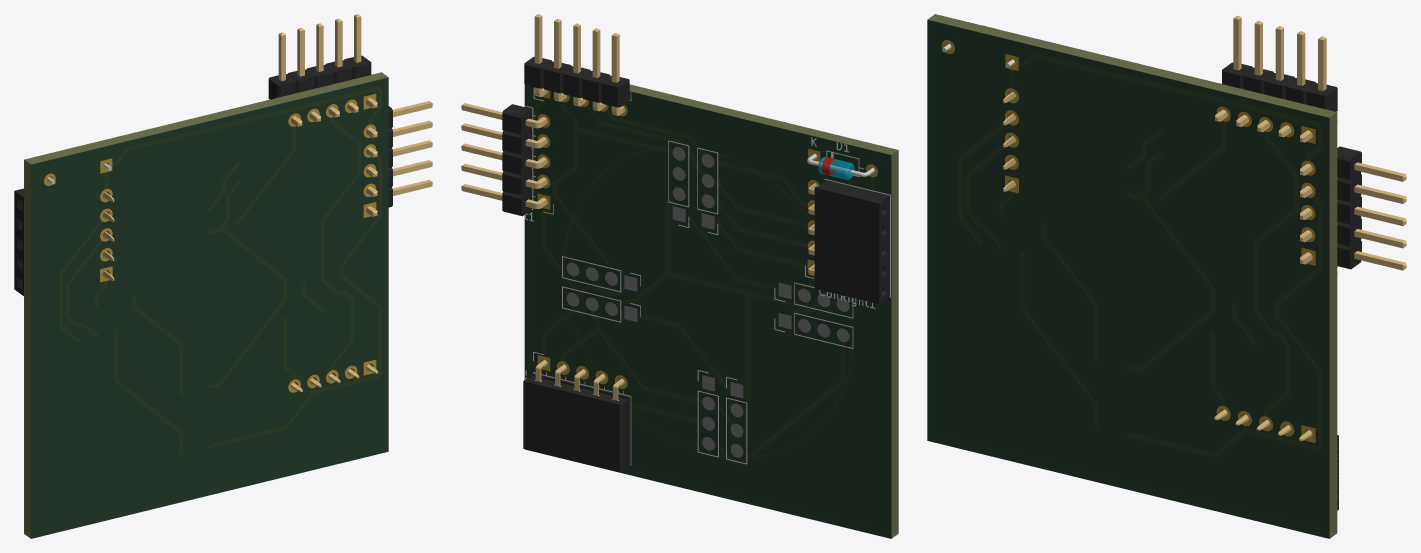
File: design.obj
3 views of the same model, side by side, from view 1: azimuth 30°, elevation 25°; view 2: azimuth 150°, elevation 25°; view 3: azimuth 330°, elevation 25° (orthographic). The views are drawn at different scales.
Visible parts, largest first — view 1: SHAPE_347_IndexedFaceSet, SHAPE_341_IndexedFaceSet, SHAPE_346_IndexedFaceSet, SHAPE_342_IndexedFaceSet, SHAPE_21_IndexedFaceSet, SHAPE_160_IndexedFaceSet.001_SHAPE_160_IndexedFaceSet; view 2: SHAPE_345_IndexedFaceSet, SHAPE_341_IndexedFaceSet, SHAPE_343_IndexedFaceSet, SHAPE_156_IndexedFaceSet.001_SHAPE_156_IndexedFaceSet, SHAPE_156_IndexedFaceSet, SHAPE_342_IndexedFaceSet, SHAPE_344_IndexedFaceSet, SHAPE_348_IndexedFaceSet, SHAPE_20_IndexedFaceSet.001_SHAPE_20_IndexedFaceSet, SHAPE_160_IndexedFaceSet.001_SHAPE_160_IndexedFaceSet, SHAPE_21_IndexedFaceSet, SHAPE_157_IndexedFaceSet (+1 smaller); view 3: SHAPE_347_IndexedFaceSet, SHAPE_341_IndexedFaceSet, SHAPE_346_IndexedFaceSet, SHAPE_342_IndexedFaceSet, SHAPE_21_IndexedFaceSet.001_SHAPE_21_IndexedFaceSet, SHAPE_21_IndexedFaceSet.
Boxes of the visible parts, <box> form: SHAPE_347_IndexedFaceSet: <box>31,77,388,538</box>; SHAPE_341_IndexedFaceSet: <box>31,77,388,537</box>; SHAPE_346_IndexedFaceSet: <box>44,87,381,454</box>; SHAPE_342_IndexedFaceSet: <box>24,72,387,538</box>; SHAPE_21_IndexedFaceSet: <box>268,55,371,85</box>; SHAPE_160_IndexedFaceSet.001_SHAPE_160_IndexedFaceSet: <box>14,191,23,295</box>; SHAPE_345_IndexedFaceSet: <box>524,84,891,538</box>; SHAPE_341_IndexedFaceSet: <box>525,85,891,538</box>; SHAPE_343_IndexedFaceSet: <box>534,90,877,464</box>; SHAPE_156_IndexedFaceSet.001_SHAPE_156_IndexedFaceSet: <box>814,188,879,304</box>; SHAPE_156_IndexedFaceSet: <box>523,381,619,472</box>; SHAPE_342_IndexedFaceSet: <box>540,84,898,538</box>; SHAPE_344_IndexedFaceSet: <box>566,147,849,457</box>; SHAPE_348_IndexedFaceSet: <box>524,88,890,465</box>; SHAPE_20_IndexedFaceSet.001_SHAPE_20_IndexedFaceSet: <box>521,109,532,215</box>; SHAPE_160_IndexedFaceSet.001_SHAPE_160_IndexedFaceSet: <box>879,196,889,303</box>; SHAPE_21_IndexedFaceSet: <box>524,56,629,87</box>; SHAPE_157_IndexedFaceSet: <box>619,397,630,471</box>; SHAPE_347_IndexedFaceSet: <box>927,20,1329,538</box>; SHAPE_341_IndexedFaceSet: <box>928,20,1329,537</box>; SHAPE_346_IndexedFaceSet: <box>941,40,1321,456</box>; SHAPE_342_IndexedFaceSet: <box>928,14,1337,538</box>; SHAPE_21_IndexedFaceSet.001_SHAPE_21_IndexedFaceSet: <box>1350,151,1361,269</box>; SHAPE_21_IndexedFaceSet: <box>1222,62,1337,95</box>.
Size of the model in its own units: 55.76 by 55.76 by 5.84.
